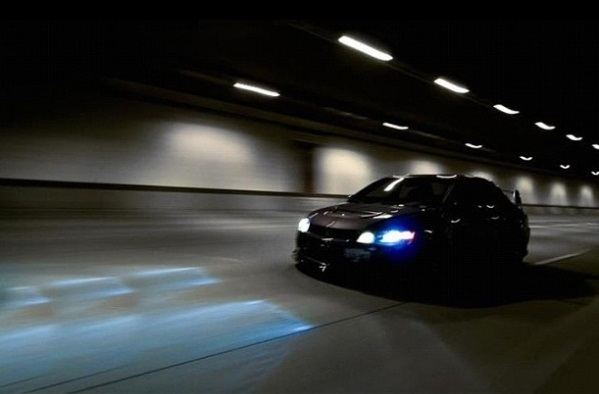car: (288, 167, 542, 298)
